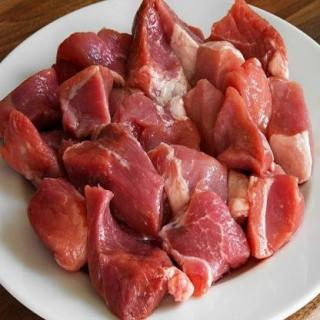Daging Sapi: (1, 2, 314, 319), (87, 187, 193, 317), (67, 133, 160, 234), (164, 187, 253, 286), (134, 1, 190, 113), (114, 90, 204, 159), (150, 144, 230, 220), (214, 4, 293, 80), (28, 177, 89, 271), (218, 91, 276, 178), (249, 174, 305, 259), (270, 78, 315, 183), (3, 108, 62, 186), (184, 76, 230, 153), (63, 69, 114, 135), (227, 58, 270, 135), (1, 68, 63, 114), (57, 32, 121, 75), (197, 41, 243, 88)
